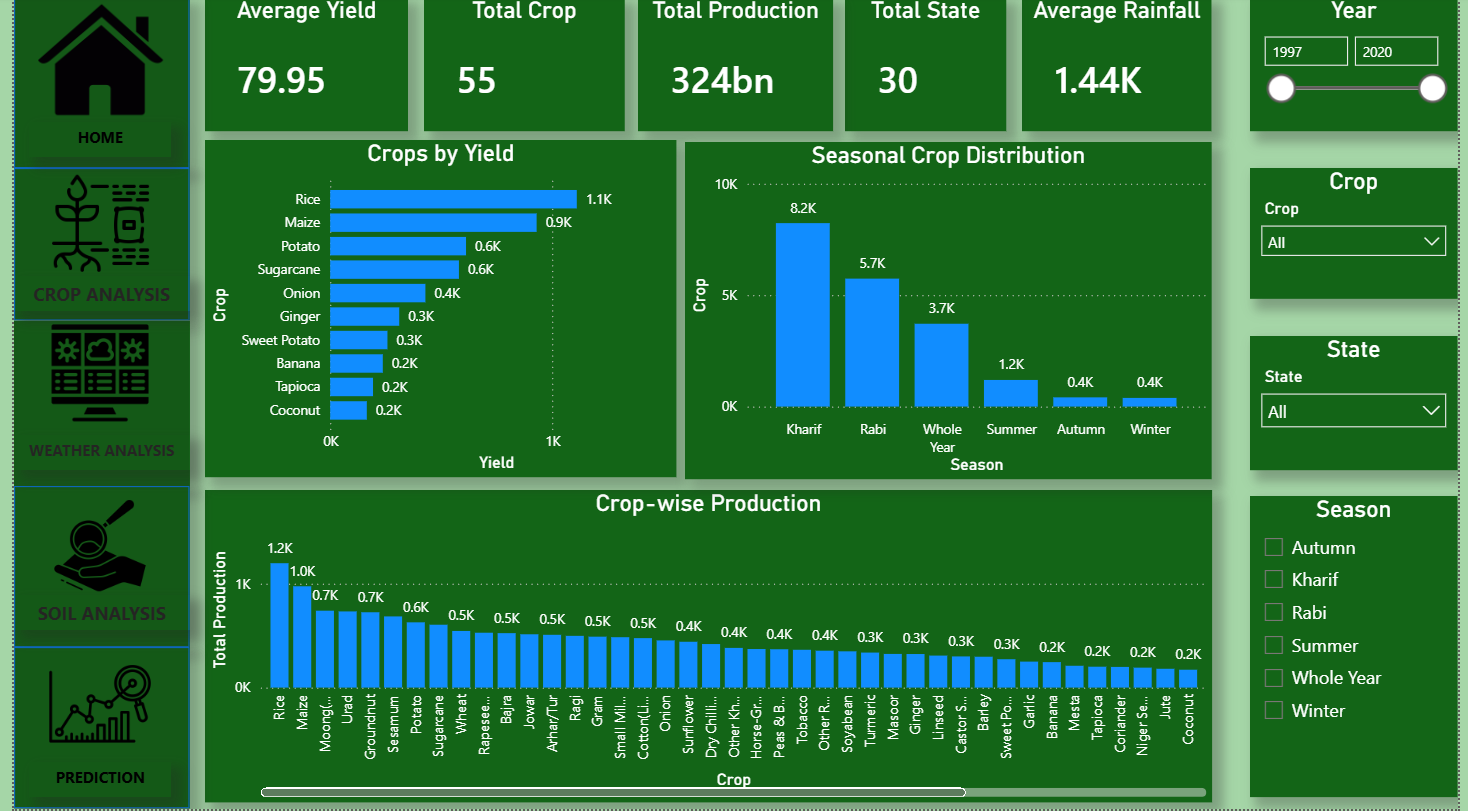

What the dashboard file says about the page in this screenshot:
{"tool":"powerbi","page":{"name":"Crop Analysis","canvas":[1280,720],"ordinal":1},"visuals":[{"type":"cardVisual","title":"Average Yield","fields":{"Data":["final_df.Average Yield"]},"box":[169.2,0,179.9,118.7],"z":0},{"type":"cardVisual","title":"Average Rainfall","fields":{"Data":["final_df.Average Rainfall"]},"box":[893.9,0,168.3,118.7],"z":1000},{"type":"cardVisual","title":"Total State","fields":{"Data":["final_df.Total State"]},"box":[737.3,0,143,118.7],"z":2000},{"type":"cardVisual","title":"Total Crop","fields":{"Data":["final_df.Total Crop"]},"box":[363.8,0,178,118.7],"z":3000},{"type":"cardVisual","title":"Total Production","fields":{"Data":["final_df.Total Production"]},"box":[553.4,0,173.1,118.7],"z":4000},{"type":"slicer","title":"Crop","fields":{"Values":["final_df.Crop"]},"box":[1096.2,151.7,183.8,115.7],"z":5000},{"type":"slicer","title":"State","fields":{"Values":["final_df.State"]},"box":[1096.2,300.5,183.8,118.7],"z":6000},{"type":"slicer","title":"Year","fields":{"Values":["final_df.Year"]},"box":[1096.2,0,183.8,118.7],"z":7000},{"type":"slicer","title":"Season","fields":{"Values":["final_df.Season"]},"box":[1096.2,442.6,183.8,266.5],"z":8000},{"type":"clusteredColumnChart","title":"Crop-wise Production","fields":{"Y":["CountNonNull(final_df.Production)"],"Category":["final_df.Crop"]},"box":[169.2,436.7,892.9,277.2],"z":9000},{"type":"shape","box":[0,0,155.6,151.7],"z":10000},{"type":"shape","box":[0,151.7,155.6,135.2],"z":11000},{"type":"shape","box":[0,286.9,155.6,146.9],"z":12000},{"type":"shape","box":[0,433.8,155.6,143],"z":13000},{"type":"shape","box":[0,576.8,155.6,143],"z":14000},{"type":"image","box":[13.6,0,127.4,110.9],"z":15000},{"type":"image","box":[13.6,151.7,126.4,95.3],"z":16000},{"type":"image","box":[13.6,286.9,126.4,92.4],"z":17000},{"type":"image","box":[13.6,442.6,126.4,87.5],"z":18000},{"type":"image","box":[13.6,581.6,126.4,90.5],"z":19000},{"type":"textbox","box":[13.6,110.9,126.4,31.1],"z":20000},{"type":"textbox","box":[13.6,677.9,126.4,31.1],"z":21000},{"type":"textbox","box":[0,247.1,155.6,31.1],"z":22000},{"type":"textbox","box":[0,530.1,155.6,31.1],"z":23000},{"type":"textbox","box":[0,388.1,155.6,31.1],"z":24000},{"type":"clusteredBarChart","title":"Crops by Yield","fields":{"Y":["Count(final_df.Yield)"],"Category":["final_df.Crop"]},"box":[169.2,126.4,418.2,298.6],"z":25000},{"type":"columnChart","title":"Seasonal Crop Distribution","fields":{"Category":["final_df.Season"],"Y":["CountNonNull(final_df.Crop)"]},"box":[595.3,128.4,466.9,298.6],"z":26000}]}

Visuals, with their boxes on the page's 1280x720 design canvas (x1, y1, x2, y2). These are canvas units, not pixel positions in the 1468x811 screenshot, which may show the page scaled, cropped or inside an application window:
"Average Yield" cardVisual: <region>169, 0, 349, 119</region>
"Average Rainfall" cardVisual: <region>894, 0, 1062, 119</region>
"Total State" cardVisual: <region>737, 0, 880, 119</region>
"Total Crop" cardVisual: <region>364, 0, 542, 119</region>
"Total Production" cardVisual: <region>553, 0, 726, 119</region>
"Crop" slicer: <region>1096, 152, 1280, 267</region>
"State" slicer: <region>1096, 300, 1280, 419</region>
"Year" slicer: <region>1096, 0, 1280, 119</region>
"Season" slicer: <region>1096, 443, 1280, 709</region>
"Crop-wise Production" clusteredColumnChart: <region>169, 437, 1062, 714</region>
shape: <region>0, 0, 156, 152</region>
shape: <region>0, 152, 156, 287</region>
shape: <region>0, 287, 156, 434</region>
shape: <region>0, 434, 156, 577</region>
shape: <region>0, 577, 156, 720</region>
image: <region>14, 0, 141, 111</region>
image: <region>14, 152, 140, 247</region>
image: <region>14, 287, 140, 379</region>
image: <region>14, 443, 140, 530</region>
image: <region>14, 582, 140, 672</region>
textbox: <region>14, 111, 140, 142</region>
textbox: <region>14, 678, 140, 709</region>
textbox: <region>0, 247, 156, 278</region>
textbox: <region>0, 530, 156, 561</region>
textbox: <region>0, 388, 156, 419</region>
"Crops by Yield" clusteredBarChart: <region>169, 126, 587, 425</region>
"Seasonal Crop Distribution" columnChart: <region>595, 128, 1062, 427</region>
